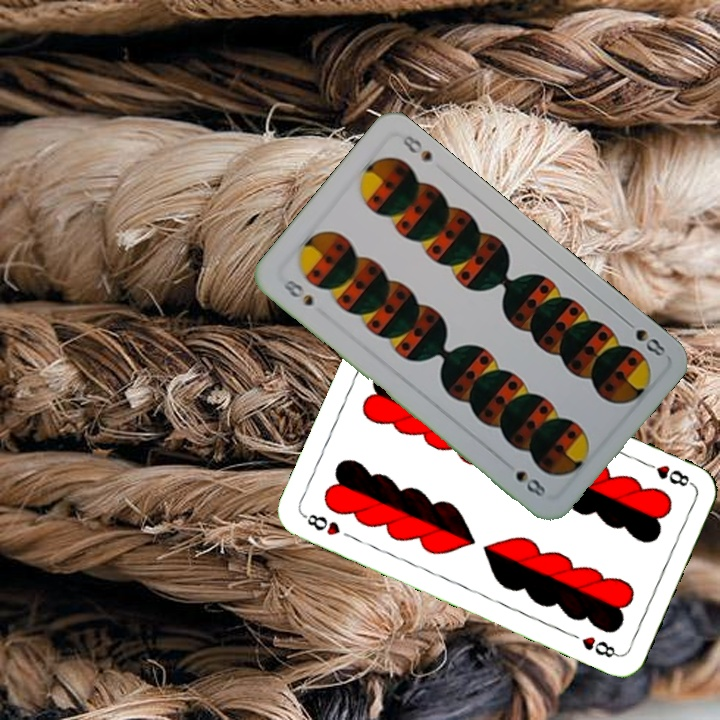H8: (639, 458, 696, 489), (299, 510, 343, 538)
S8: (619, 314, 668, 359), (278, 275, 316, 309)
